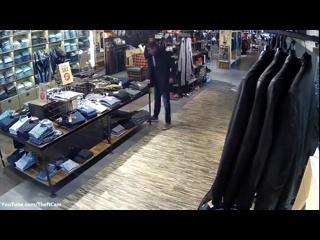Normal: (144, 39, 177, 126)
